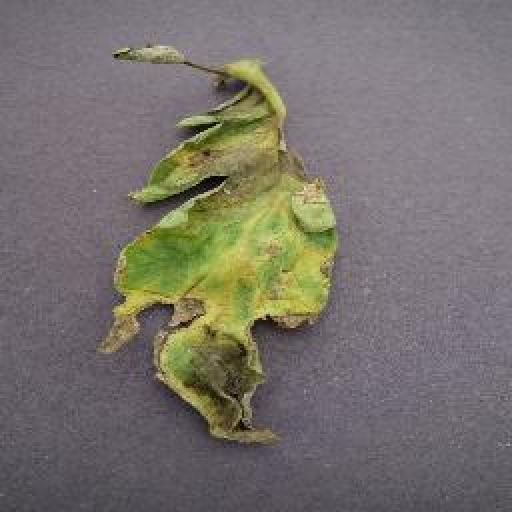Late Blight: (102, 43, 342, 448)
